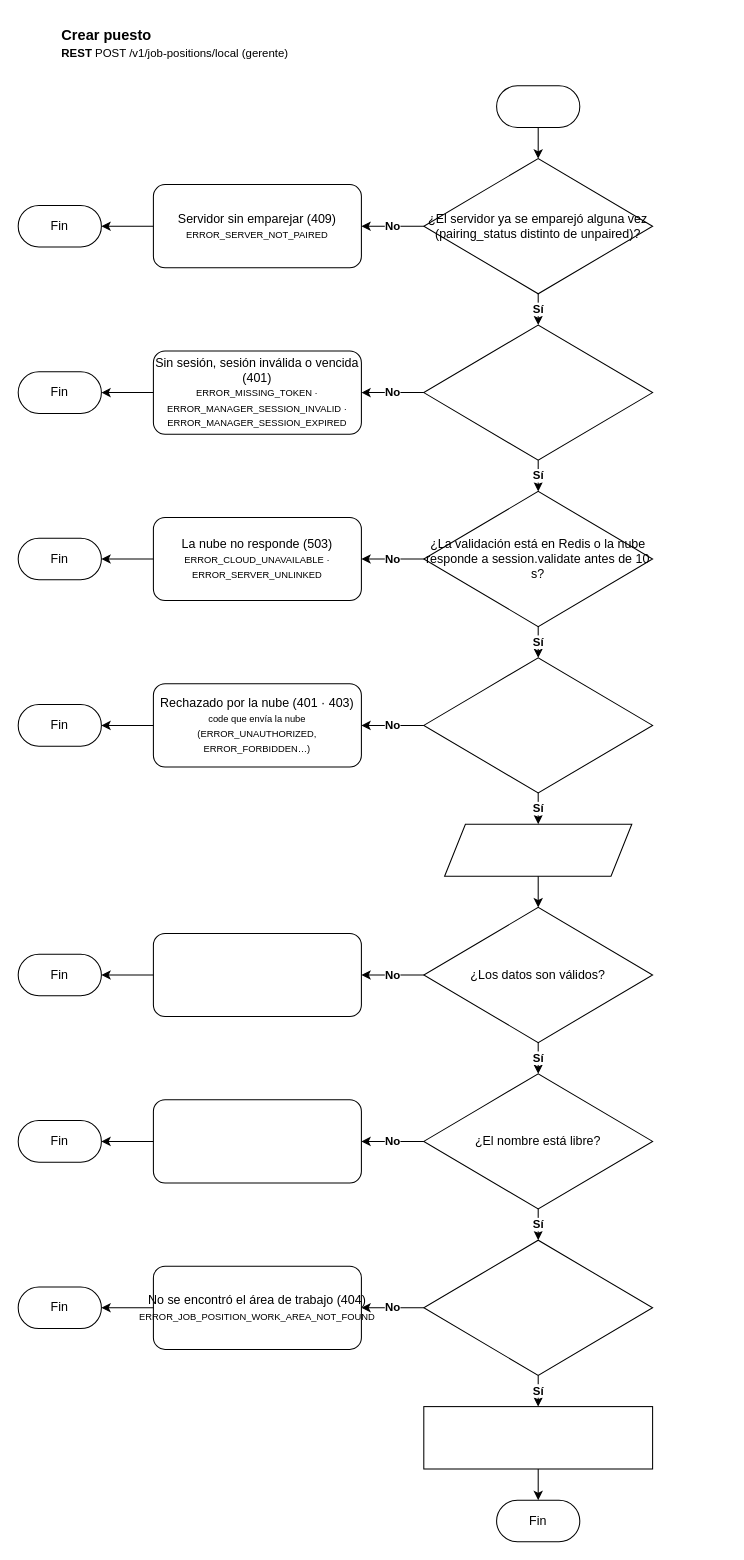
This 744x1560 diagram has some shape labels left out. Here are the shapes that lost their labels. From the top down, the centre of each, then its label:
At (x=538, y=106): "Inicio".
At (x=538, y=392): "¿Trae una sesión de gerente válida (Bearer mss_..., sin 30 min de inactividad)?".
At (x=538, y=725): "¿La nube acepta la sesión del gerente con este servidor?".
At (x=538, y=849): "Recibir datos".
At (x=256, y=974): "Datos inválidos (400) ERROR_BAD_REQUEST".
At (x=256, y=1141): "Ya existe un puesto con ese nombre (409) ERROR_JOB_POSITION_NAME_ALREADY_IN_USE".
At (x=538, y=1307): "¿Existen las áreas indicadas?".
At (x=538, y=1437): "Responder 201 con el mensaje JOB_POSITION_CREATED".
